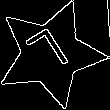L_SE: (23, 24, 78, 84)
